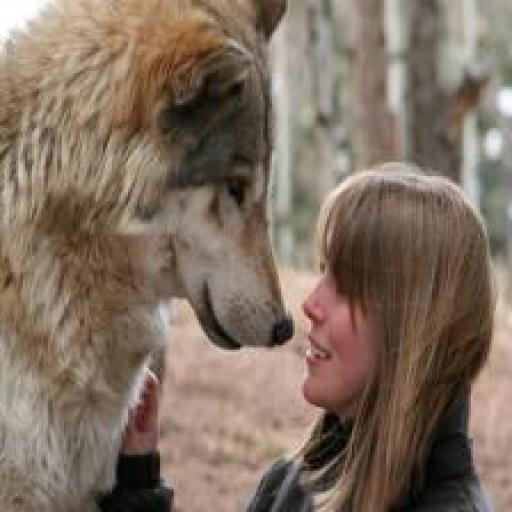wolf: (0, 0, 297, 512)
